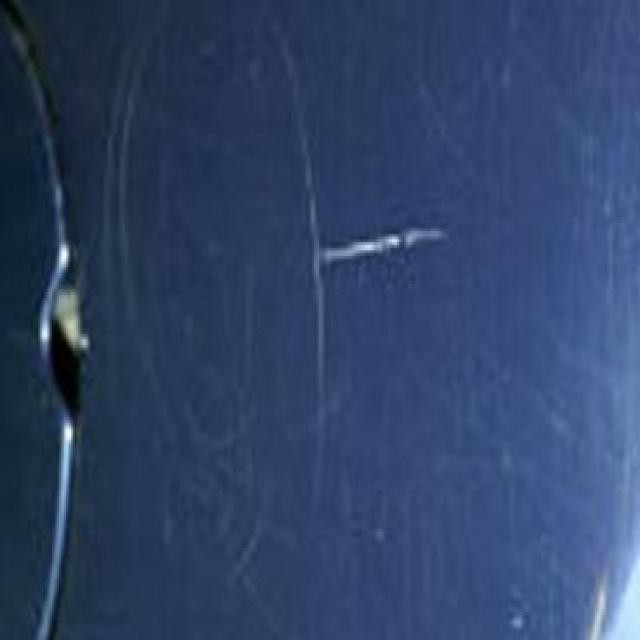scratch: (314, 230, 436, 264)
